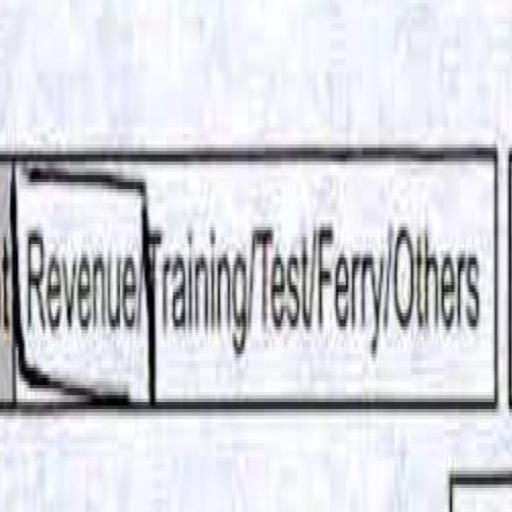check: (9, 120, 143, 474)
